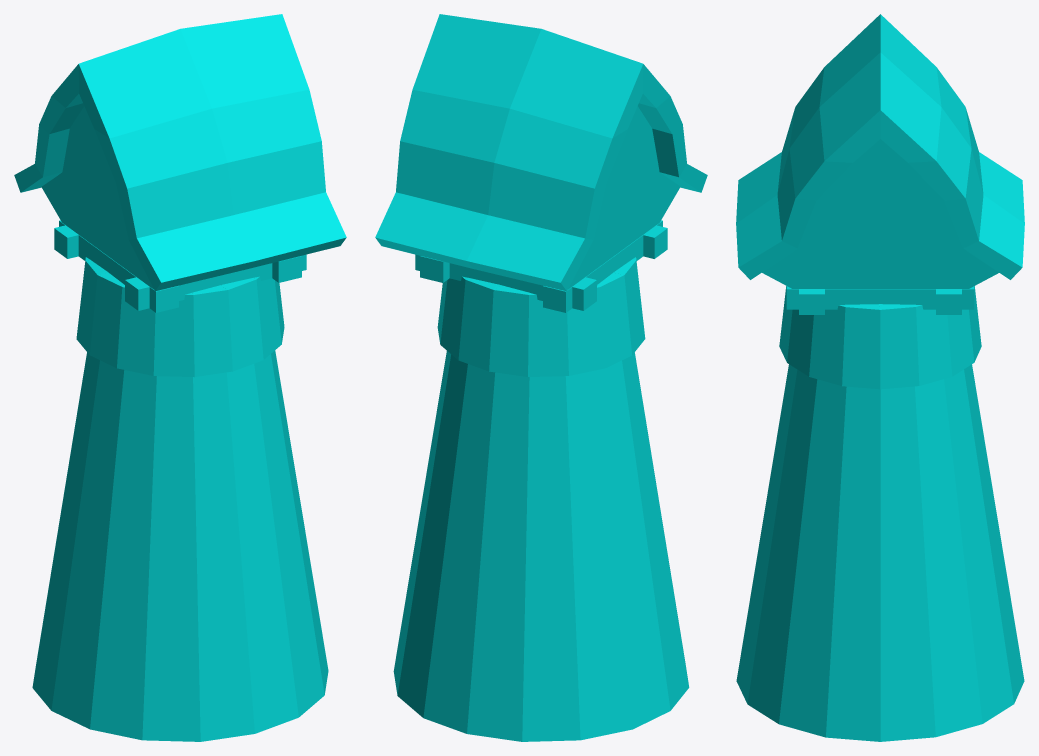
Rendered from SM_Bld_Preset_Tower_03_Collision.fbx.
3 views of the same model, side by side, from view 1: azimuth 30°, elevation 25°; view 2: azimuth 150°, elevation 25°; view 3: azimuth 270°, elevation 25° (orthographic). The views are drawn at different scales.
Visible parts, largest first — view 1: SM_Bld_Preset_Tower_03_Collision; view 2: SM_Bld_Preset_Tower_03_Collision; view 3: SM_Bld_Preset_Tower_03_Collision.
Part boxes in pixels (bbox=[...]): SM_Bld_Preset_Tower_03_Collision: bbox=[14, 14, 346, 741]; SM_Bld_Preset_Tower_03_Collision: bbox=[375, 14, 707, 741]; SM_Bld_Preset_Tower_03_Collision: bbox=[736, 14, 1024, 741].
Bounding box in the file's own units: 523 × 1265 × 524.
